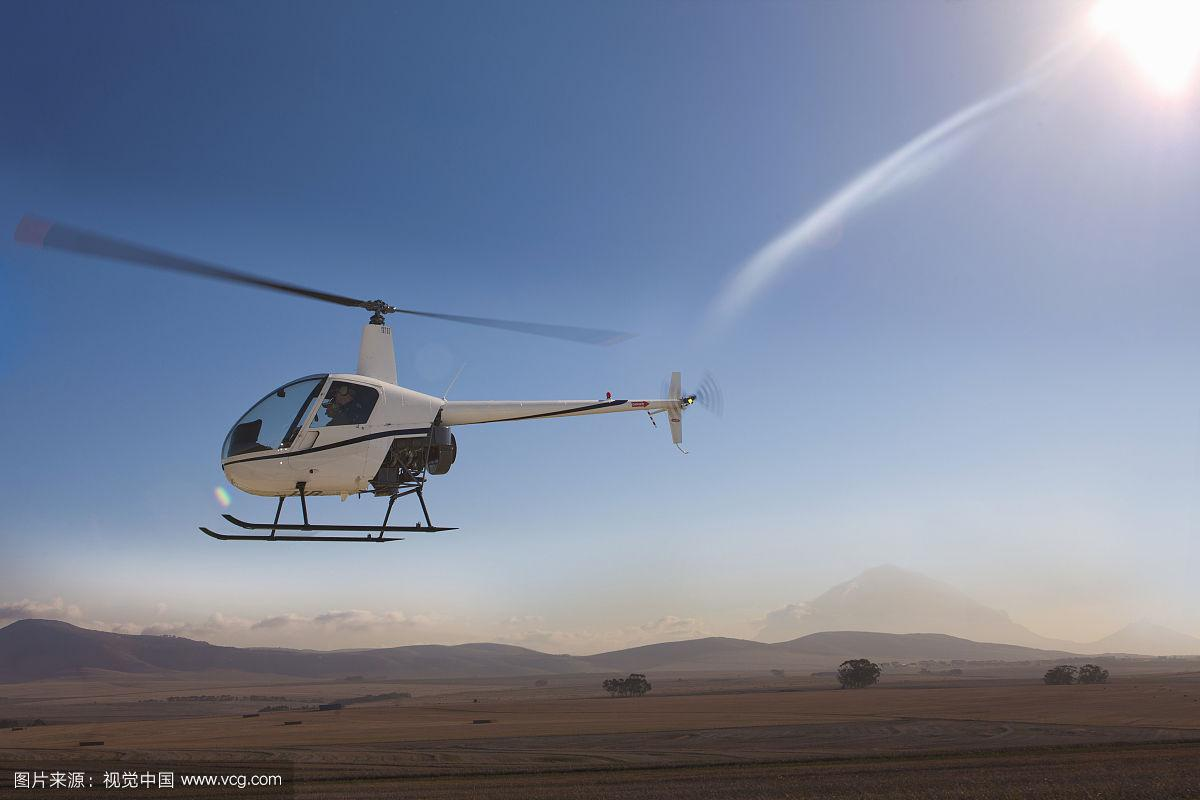airplane: (154, 268, 734, 549)
